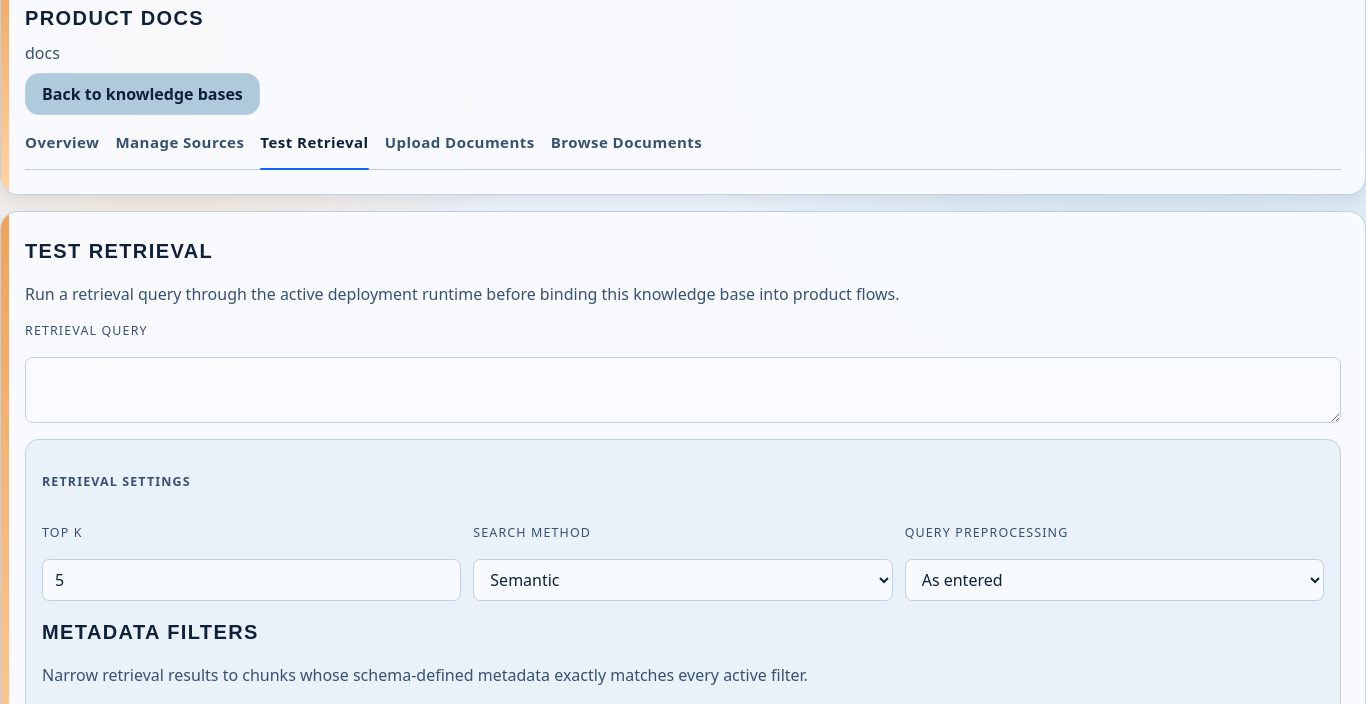
Test: ContextKnowledgeBaseWorkspace pages › lets the operator run hybrid retrieval with a configurable alpha
Expected: the heading "Test retrieval" is shown, x1=25 y1=240 x2=213 y2=262
Type "How does retrieval work?" into the text box labelled "Retrieval query".
click(683, 390); type("How does retrieval work?")  # box x1=25 y1=357 x2=1341 y2=423
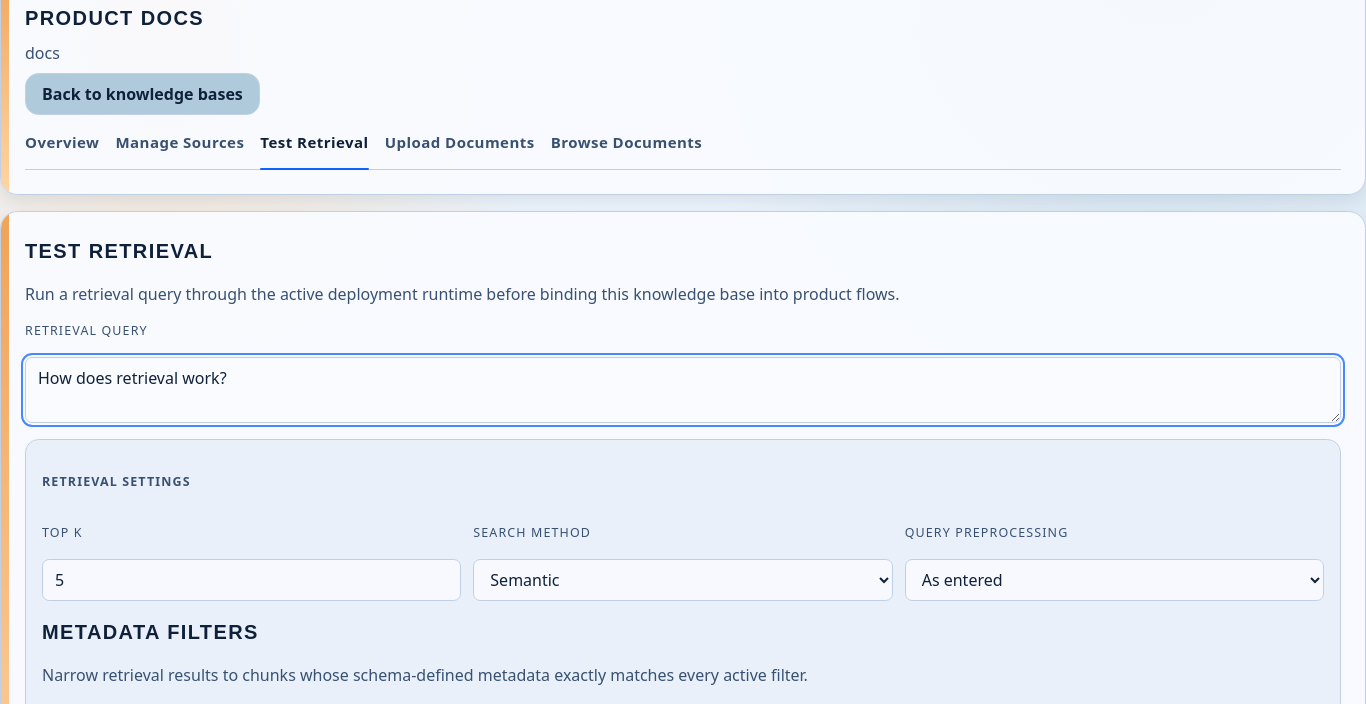
Select "Hybrid" in the dropdown labelled "Search method" at (683, 580), box x1=473 y1=559 x2=893 y2=601
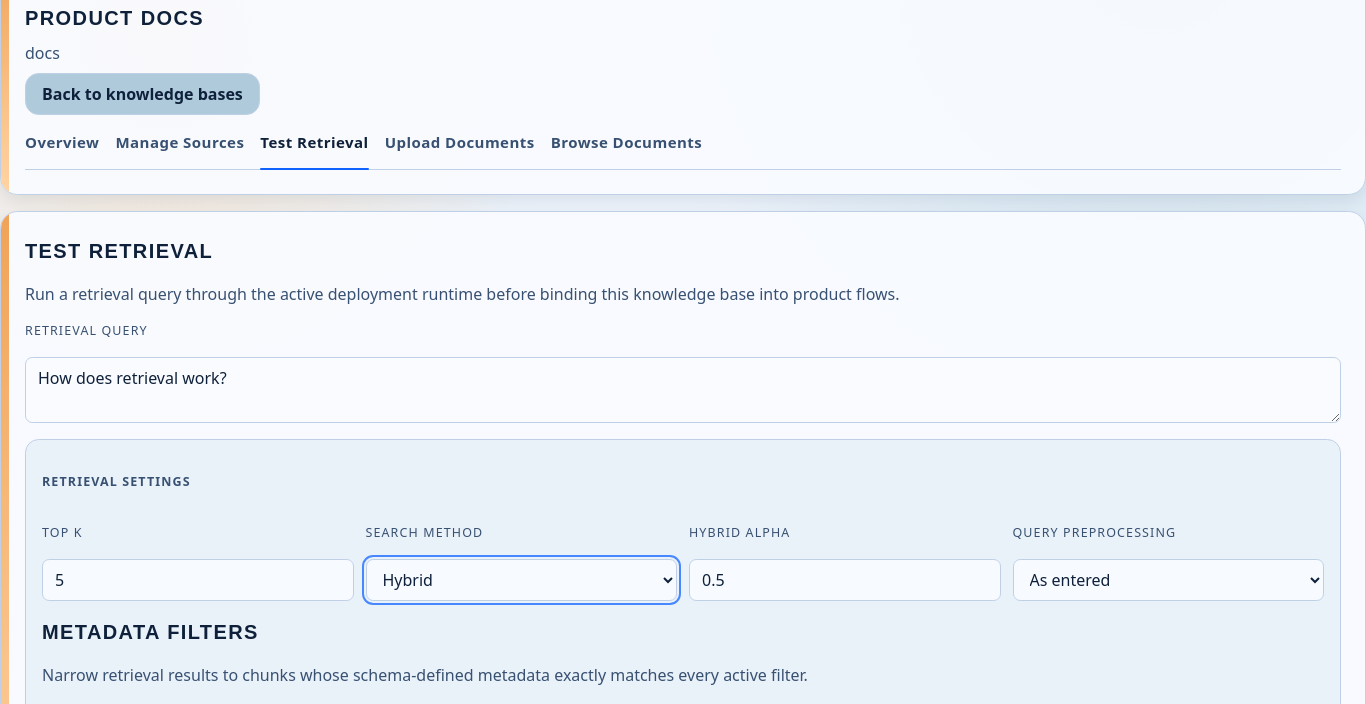
Result: the number field labelled "Hybrid alpha" holds "0.5"
Replace the text in the number field labelled "Hybrid alpha" with "0.65" at (845, 580), box x1=689 y1=559 x2=1000 y2=601
(page scrolled)
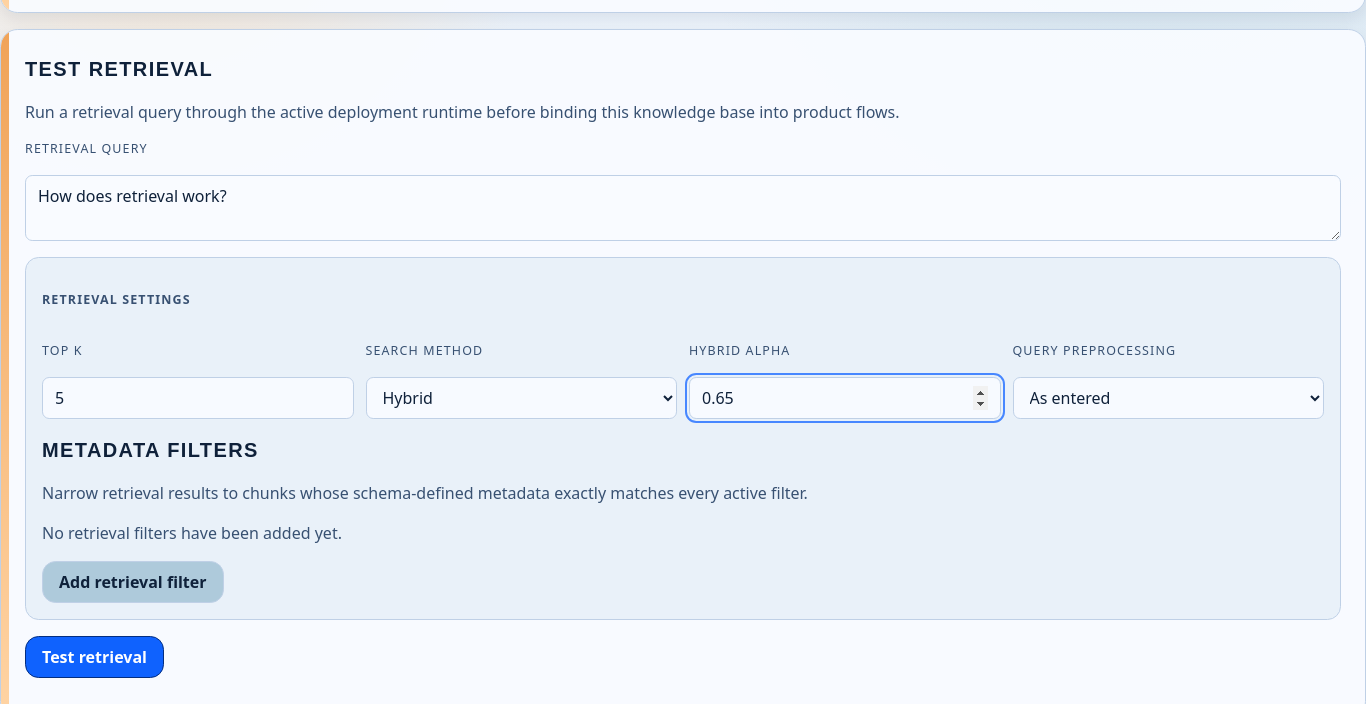
Click the button "Test retrieval".
click(94, 657)  # box x1=25 y1=636 x2=164 y2=678
(page scrolled)
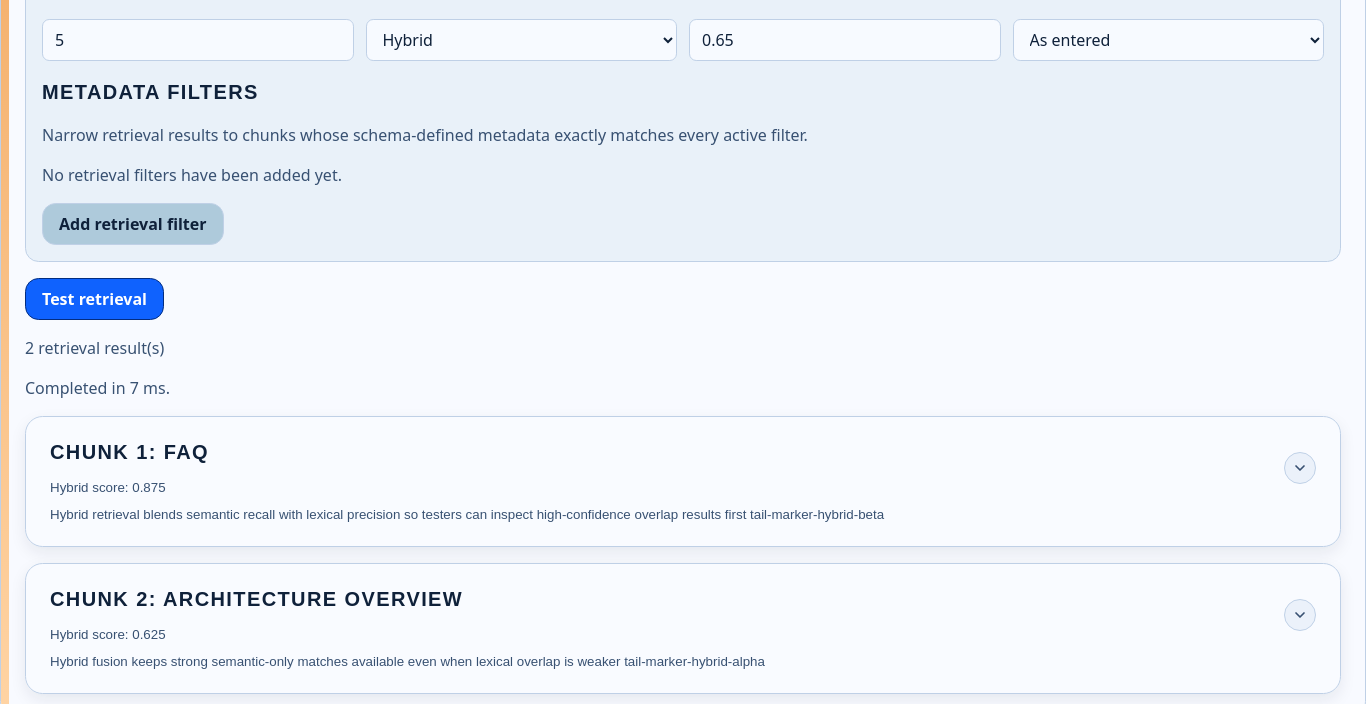
Result: the heading "Chunk 1: FAQ" is shown at x1=50 y1=441 x2=209 y2=464
Result: the text "Hybrid score: 0.875" is shown at x1=50 y1=480 x2=166 y2=495
Result: the text "Hybrid score: 0.625" is shown at x1=50 y1=627 x2=166 y2=642
Click the button with aria-label "Expand retrieval result for Chunk 1: FAQ".
click(130, 452)  # box x1=50 y1=441 x2=1316 y2=522
(page scrolled)
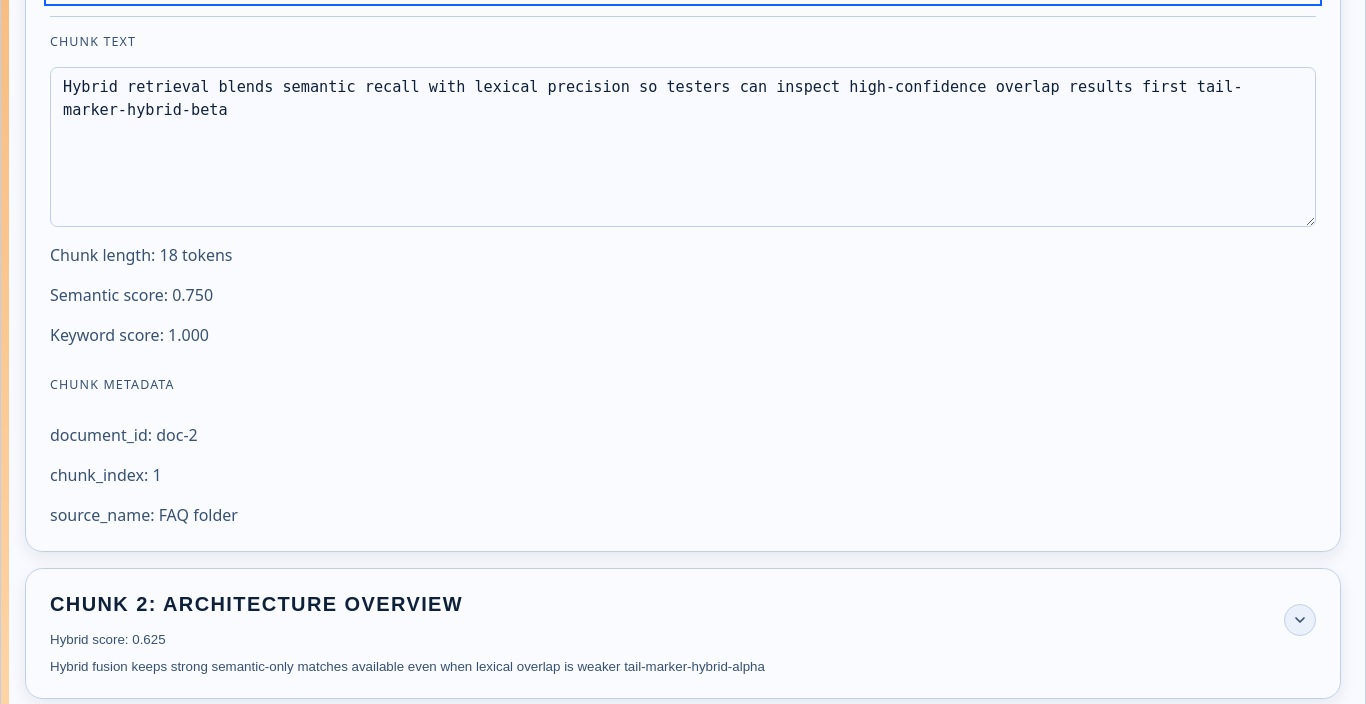
Result: the text box labelled "Chunk text" holds "Hybrid retrieval blends semantic recall with lexical precision so testers can inspect high-confidence overlap results first tail-marker-hybrid-beta" at x1=50 y1=67 x2=1316 y2=227
Result: the text "Chunk length: 18 tokens" is shown at x1=50 y1=244 x2=232 y2=266
Result: the text "Semantic score: 0.750" is shown at x1=50 y1=284 x2=213 y2=306
